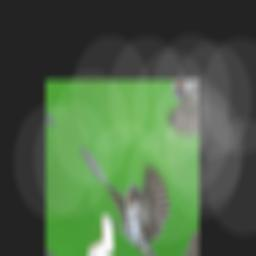Swallow: (64, 109, 190, 256)
